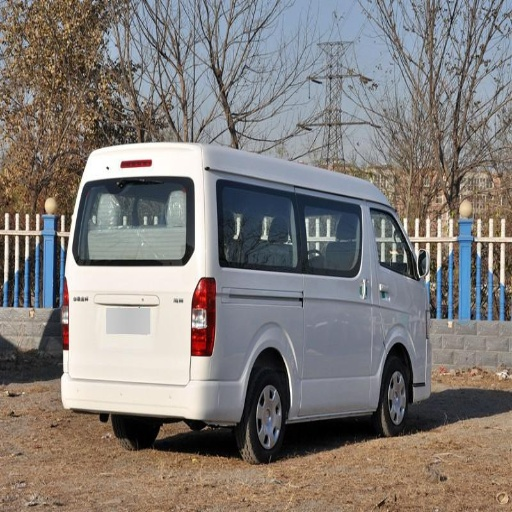back_bumper: (62, 352, 244, 422)
back_right_door: (363, 204, 396, 270), (211, 174, 255, 221)
trunk: (69, 270, 423, 413)
